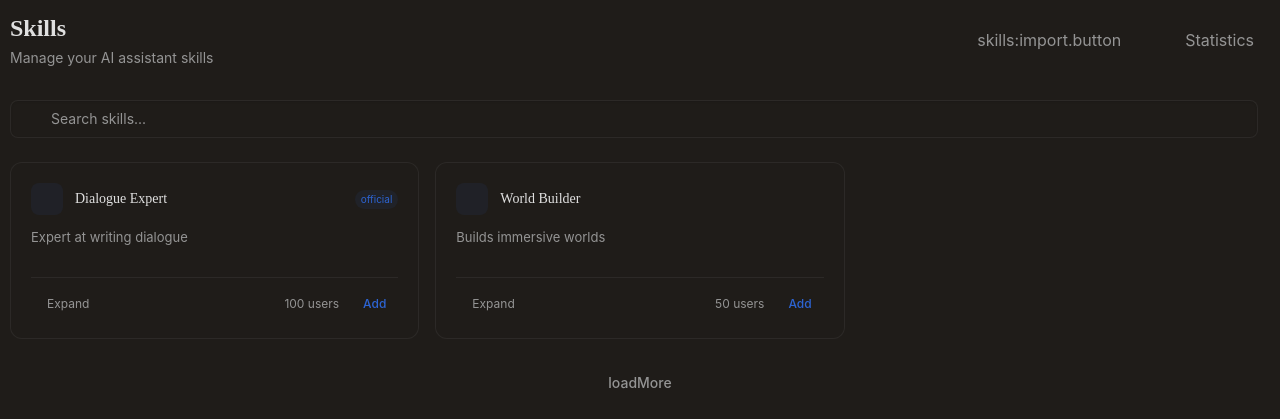
Test: SkillsPage › Launch hardening › loads the next page of public skills with "load more"
Expected: the heading "Dialogue Expert" is shown, [75,191,167,206]
Click the button "loadMore" at (640, 383), box [588,363,692,403]
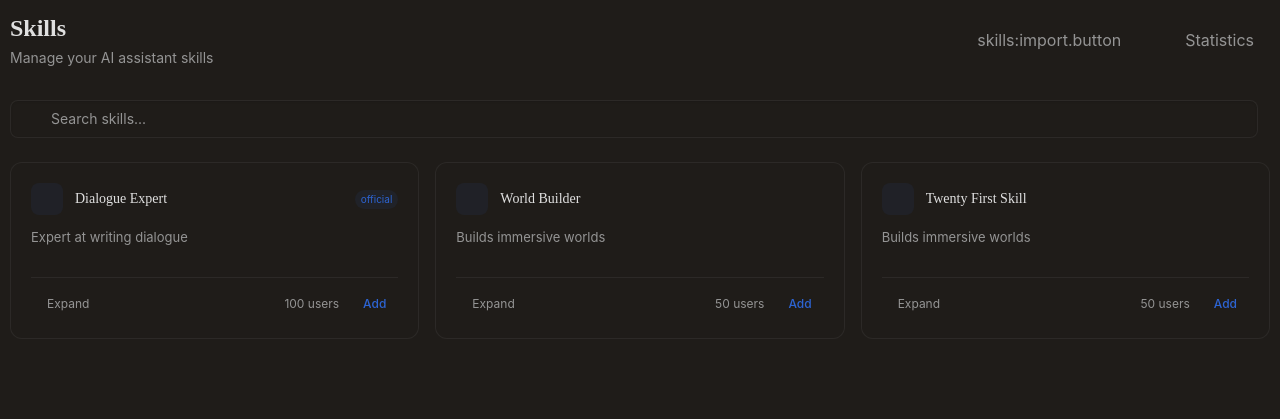
Expected: the heading "Dialogue Expert" is shown, [75,191,167,206]
Expected: the heading "Twenty First Skill" is shown, [926,191,1027,206]
Expected: the button "loadMore" is gone
